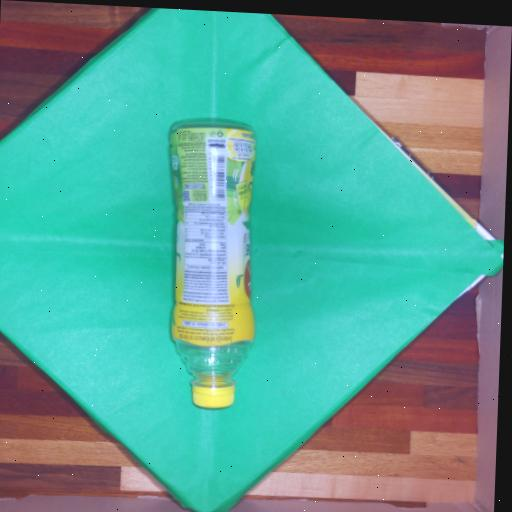bottle: (170, 123, 254, 408)
